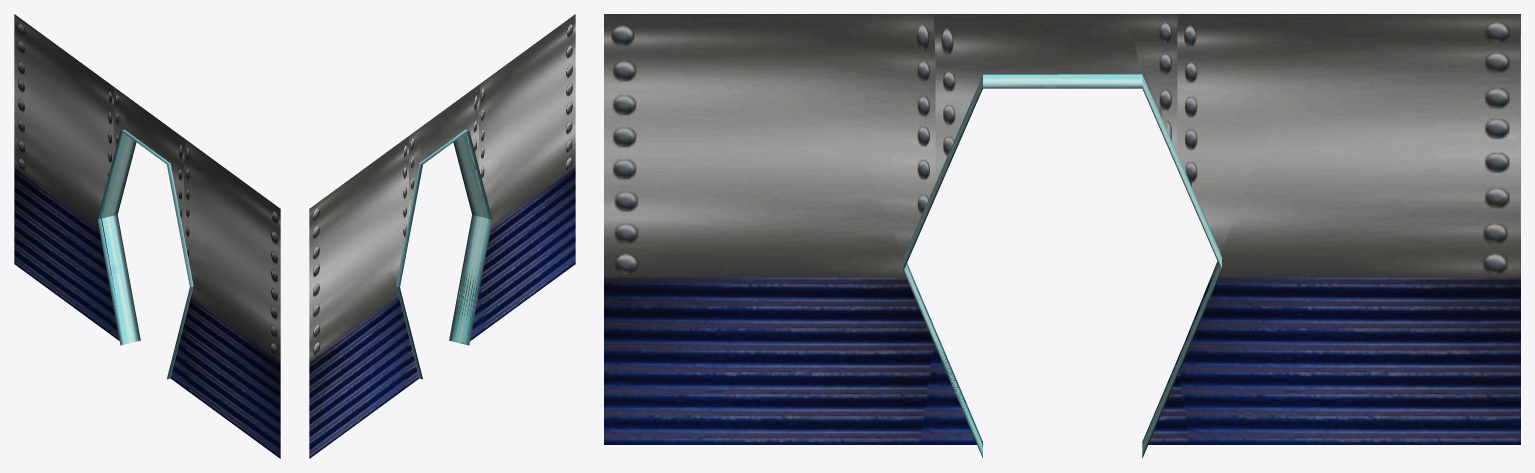
Rendered from W_AI_Aula_Ministerium_2531.glb.
The picture shows the model from 3 angles, left to right: view 1: azimuth 30°, elevation 25°; view 2: azimuth 150°, elevation 25°; view 3: azimuth 270°, elevation 25°; orthographic projection. The views are drawn at different scales.
Visible parts, largest first — view 1: pPlaneShape182, pCylinderShape346; view 2: pPlaneShape182, pCylinderShape346; view 3: pPlaneShape182, pCylinderShape346.
Part boxes in pixels (x1,y1,x2,y2): pPlaneShape182: (14,14,280,458); pCylinderShape346: (97,129,193,379); pPlaneShape182: (309,14,575,458); pCylinderShape346: (396,129,492,379); pPlaneShape182: (604,14,1520,444); pCylinderShape346: (903,74,1221,458).
Bounding box in the file's own units: 0.0331 × 0.3891 × 0.75.
2 materials, 2 textured.
